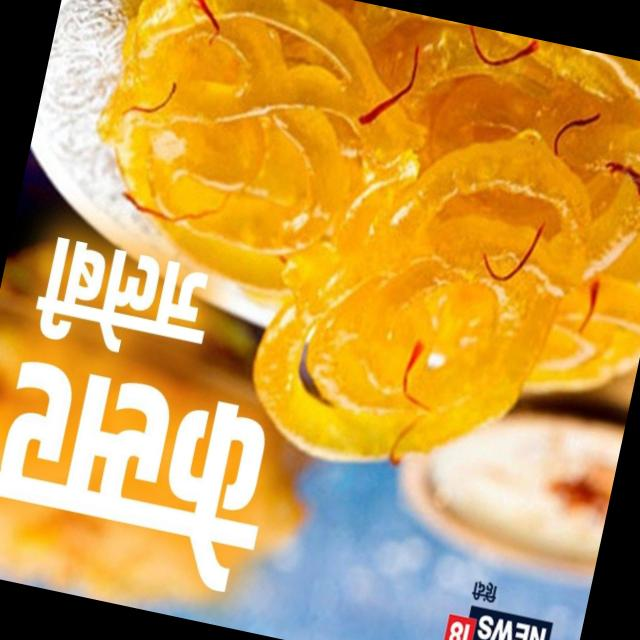jalebi: (79, 0, 640, 495)
